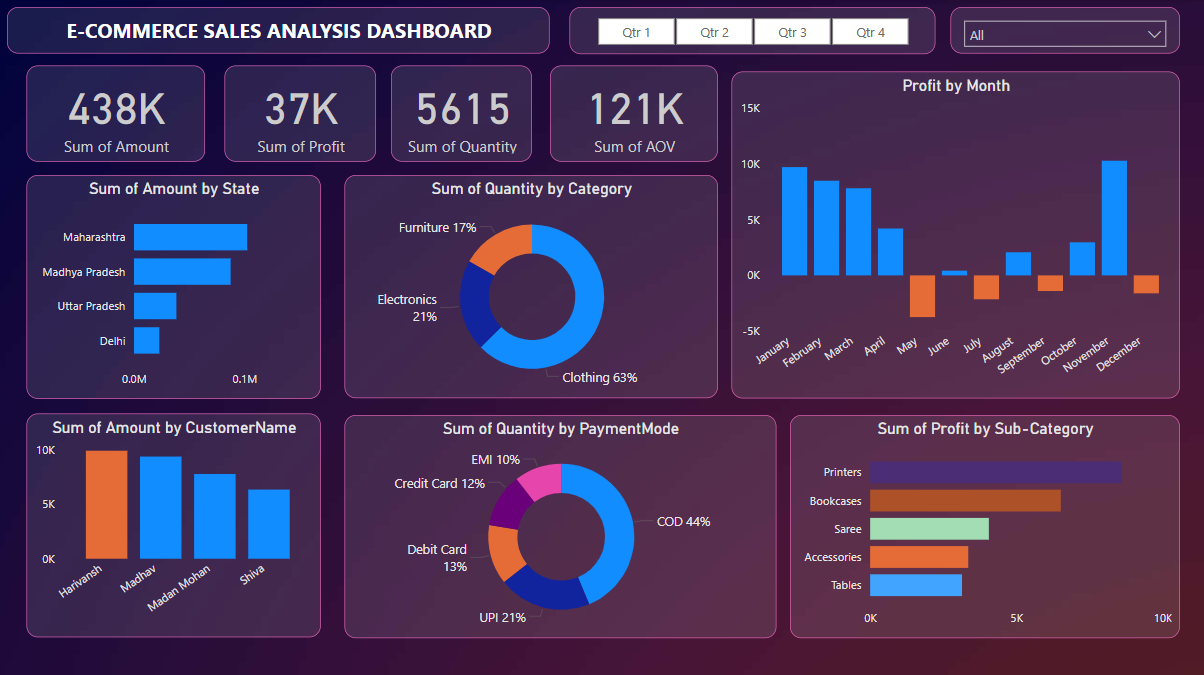

Layout of this report page (visuals, bound fields, positions):
{"tool":"powerbi","page":{"name":"Page 1","canvas":[1280,720],"ordinal":0},"visuals":[{"type":"textbox","box":[9.5,9.5,575.4,49.3],"z":0},{"type":"columnChart","title":"Profit by Month","fields":{"Category":["Orders.Order Date.Variation.Date Hierarchy.Month"],"Y":["Details.Profit"]},"box":[777.2,77.9,475.2,346.5],"z":1000},{"type":"barChart","fields":{"Category":["Details.Sub-Category"],"Y":["Details.Profit"]},"box":[839.2,441.9,413.2,236.8],"z":2000},{"type":"donutChart","fields":{"Category":["Details.Category"],"Y":["Details.Quantity"]},"box":[367.2,187.5,395.8,236.8],"z":2001},{"type":"donutChart","fields":{"Y":["Details.Quantity"],"Category":["Details.PaymentMode"]},"box":[367.2,441.9,457.7,236.8],"z":2002},{"type":"card","fields":{"Values":["Details.Amount"]},"box":[30.2,71.5,189.1,101.7],"z":2003},{"type":"card","fields":{"Values":["Details.Profit"]},"box":[240,71.5,160.5,101.7],"z":2004},{"type":"card","fields":{"Values":["Details.Quantity"]},"box":[416.4,71.5,149.4,101.7],"z":2005},{"type":"card","fields":{"Values":["Details.AOV"]},"box":[584.9,71.5,178,101.7],"z":2006},{"type":"barChart","fields":{"Category":["Orders.State"],"Y":["Details.Amount"]},"box":[30.3,187.6,311.7,237.2],"z":2007},{"type":"columnChart","fields":{"Category":["Orders.CustomerName"],"Y":["Details.Amount"]},"box":[30,441,312,237],"z":2008},{"type":"slicer","fields":{"Values":["Orders.Order Date.Variation.Date Hierarchy.Quarter"]},"box":[605.9,8.8,388.2,50],"z":2009},{"type":"slicer","fields":{"Values":["Orders.State"]},"box":[1009.3,9.5,243.2,49.3],"z":2011}]}

Visuals, with their boxes in screenshot pixels (x1, y1, x2, y2), scaled from the page's 1280x720 canvas onto the 1204x675 screenshot:
textbox: crop(9, 9, 550, 55)
"Profit by Month" columnChart: crop(731, 73, 1178, 398)
barChart - Details.Sub-Category x Details.Profit: crop(789, 414, 1178, 636)
donutChart - Details.Category x Details.Quantity: crop(345, 176, 718, 398)
donutChart - Details.Quantity x Details.PaymentMode: crop(345, 414, 776, 636)
card - Details.Amount: crop(28, 67, 206, 162)
card - Details.Profit: crop(226, 67, 377, 162)
card - Details.Quantity: crop(392, 67, 532, 162)
card - Details.AOV: crop(550, 67, 718, 162)
barChart - Orders.State x Details.Amount: crop(29, 176, 322, 398)
columnChart - Orders.CustomerName x Details.Amount: crop(28, 413, 322, 636)
slicer - Orders.Order Date.Variation.Date Hierarchy.Quarter: crop(570, 8, 935, 55)
slicer - Orders.State: crop(949, 9, 1178, 55)
